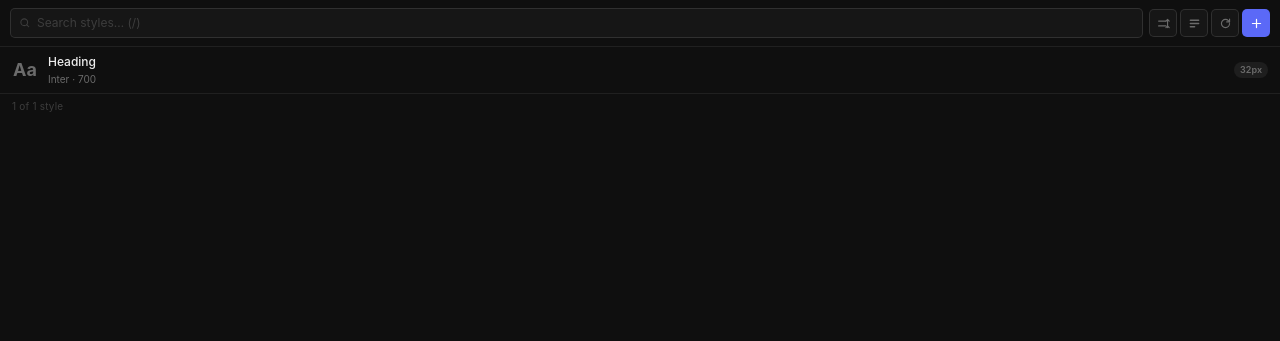
TypographyTab › opens the add form when + button is clicked
Check: the text "Heading" is shown, box [48,54,96,69]
Note: Button title is "New style" in the component
Click the button titled "New style" at (1256, 23), box [1242,9,1270,37]
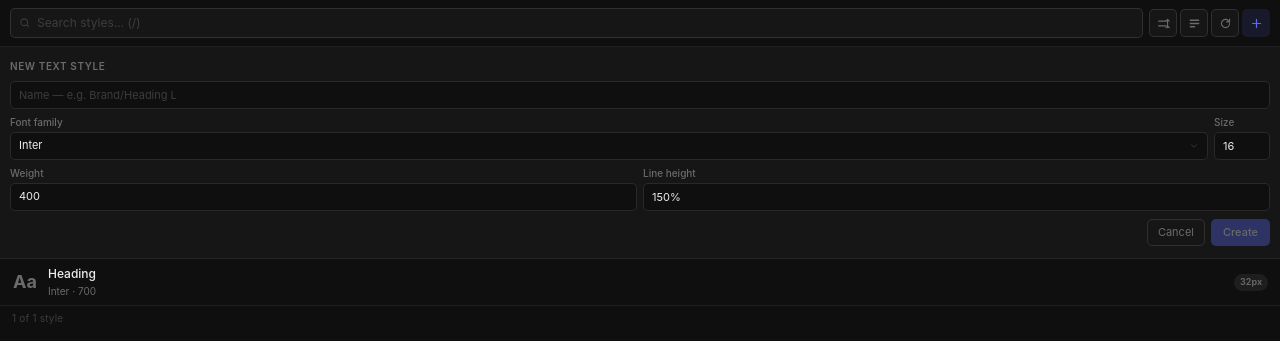
Check: the text "New Text Style" is shown, box [10,60,105,72]
